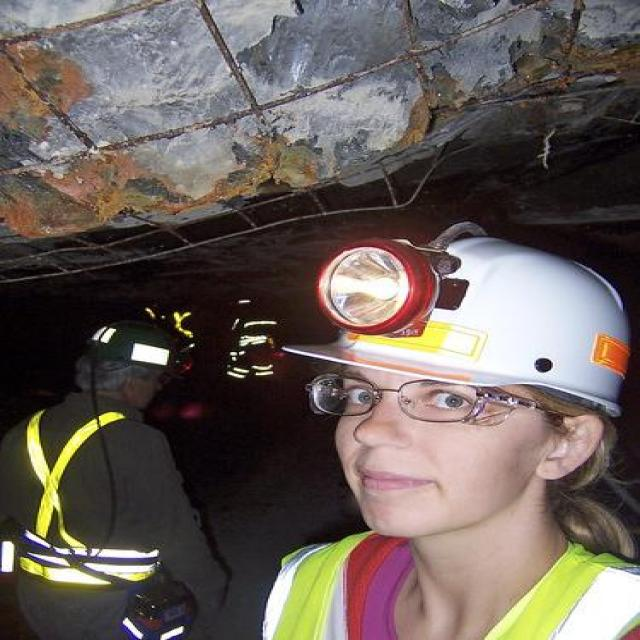Reflective-Jacket: (251, 523, 640, 640), (0, 394, 198, 617)
Safety-Helmet: (276, 232, 640, 408), (68, 310, 200, 384)
